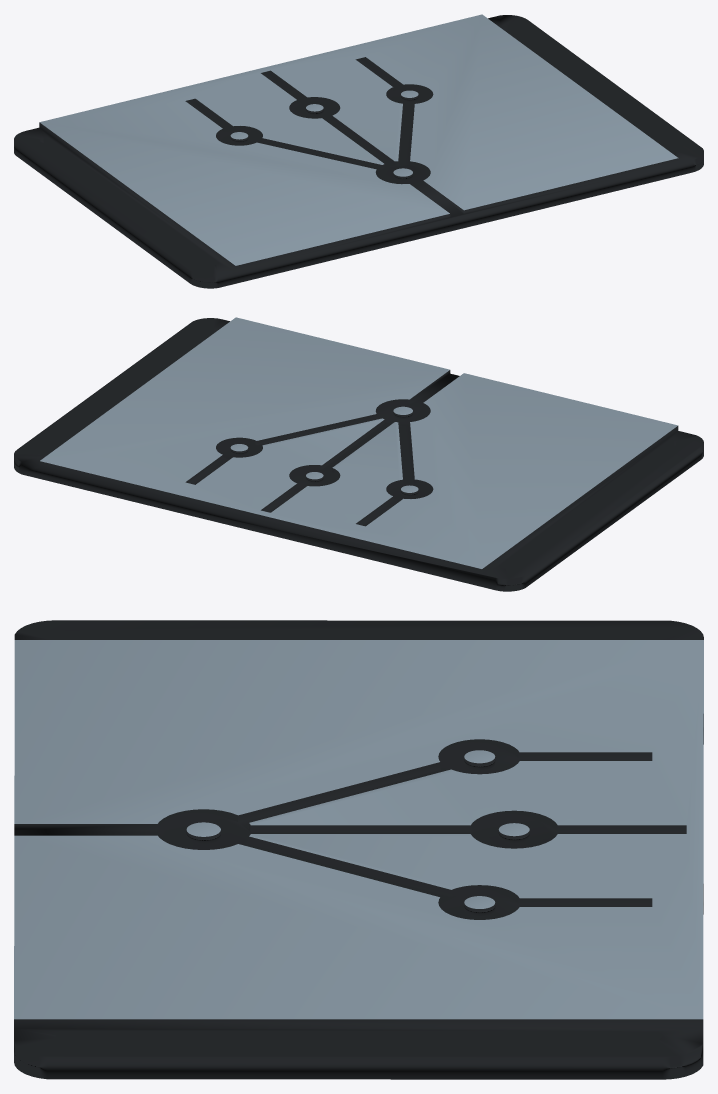
The model's file is plate-05-decisions.glb.
3 renders of one model, top to bottom at view 1: azimuth 30°, elevation 25°; view 2: azimuth 150°, elevation 25°; view 3: azimuth 270°, elevation 25°, orthographic. The views are drawn at different scales.
Visible parts, largest first — view 1: Plate_05_Decisions; view 2: Plate_05_Decisions; view 3: Plate_05_Decisions.
Part boxes in pixels (x1=…): Plate_05_Decisions: x1=14, y1=14, x2=703, y2=288; Plate_05_Decisions: x1=14, y1=317, x2=703, y2=591; Plate_05_Decisions: x1=14, y1=620, x2=703, y2=1079.
Size of the model in its own units: 0.3 by 0.01 by 0.2.
